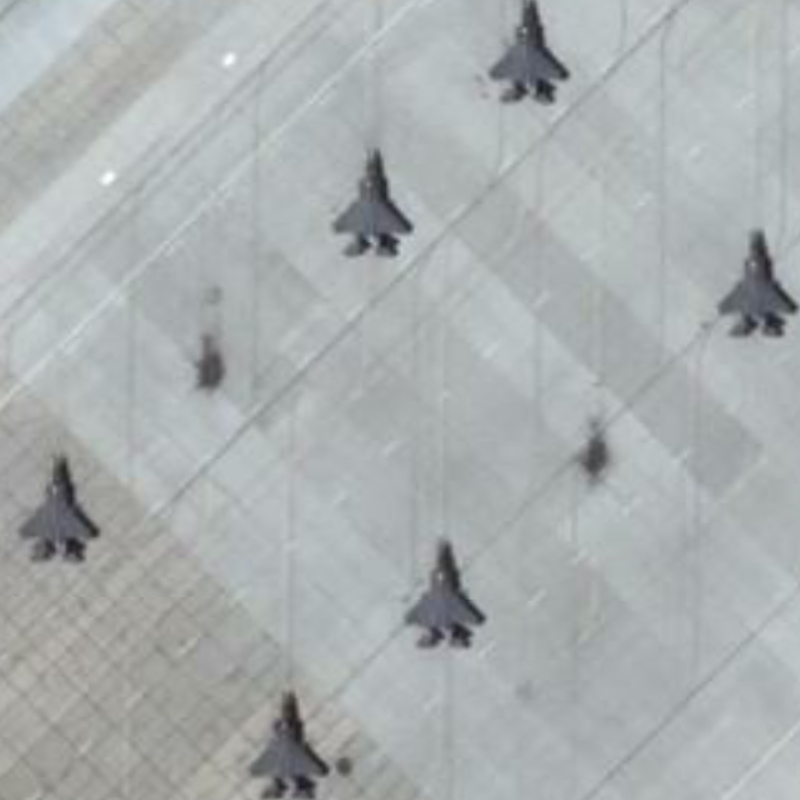A13: (328, 142, 419, 266), (15, 450, 105, 574), (395, 530, 486, 652), (243, 680, 333, 800), (710, 221, 799, 341), (481, 1, 573, 107)
